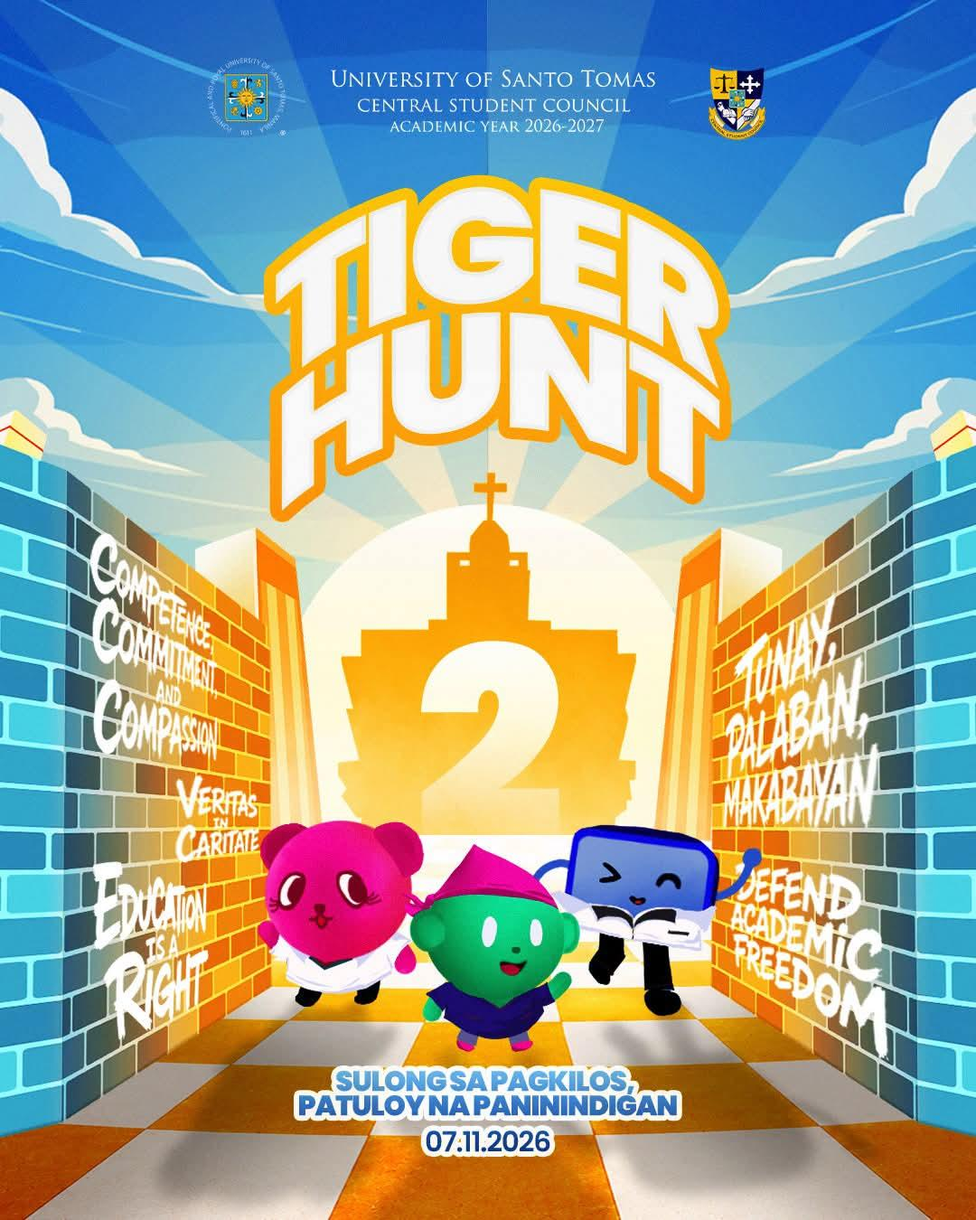embellishment: (0, 0, 975, 1219), (241, 626, 775, 1064)
logo: (201, 49, 293, 145), (700, 55, 778, 145)
text: (247, 164, 746, 528), (288, 1056, 694, 1164), (325, 58, 663, 139)
underlay: (0, 0, 975, 602)
